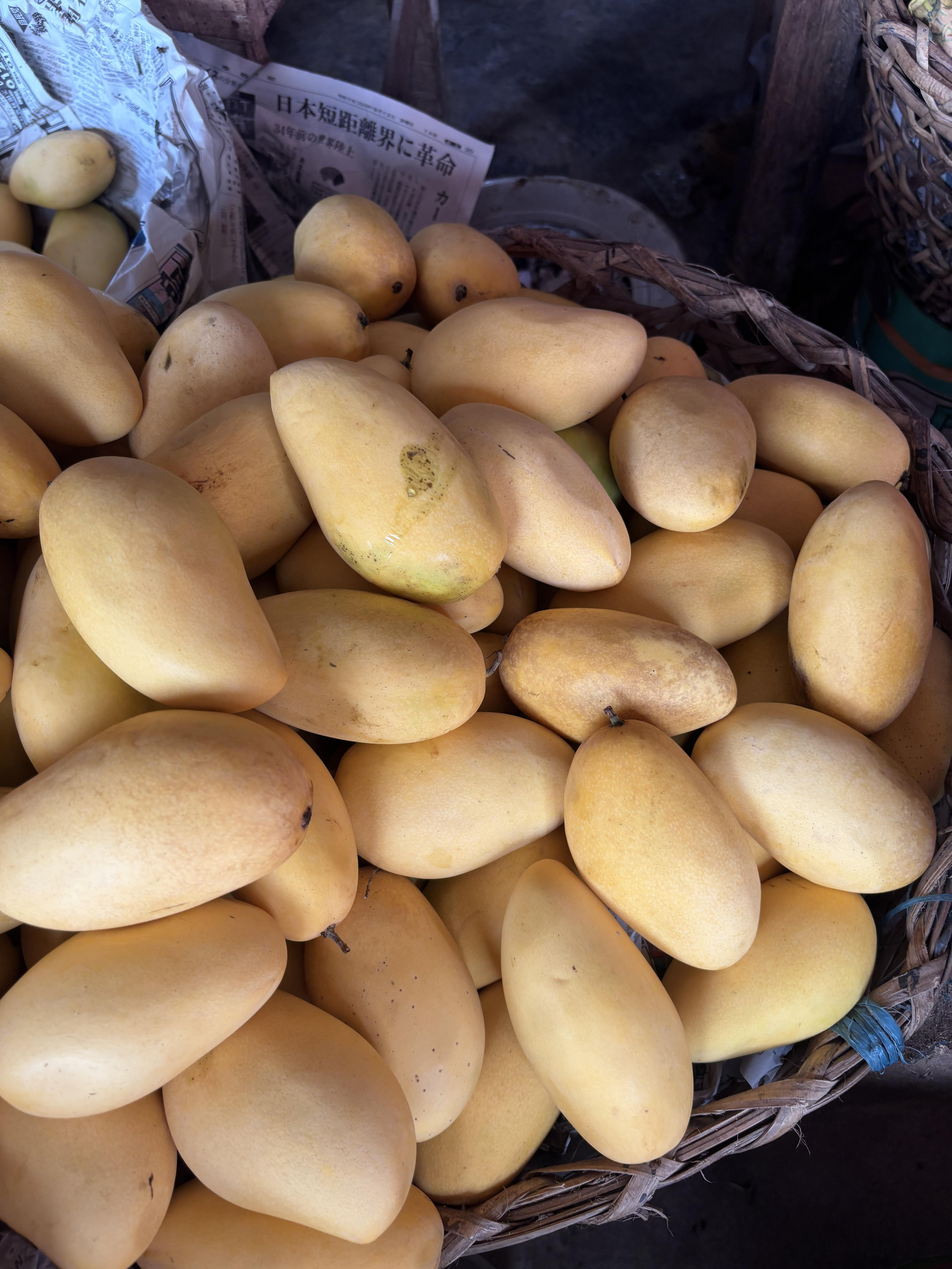mango: (39, 457, 287, 712), (501, 860, 693, 1165), (270, 359, 506, 603), (565, 719, 760, 970), (693, 702, 936, 893), (610, 375, 756, 533), (9, 130, 116, 210)
occluded: (0, 710, 313, 931), (163, 991, 416, 1243), (0, 898, 286, 1118), (305, 866, 485, 1141), (663, 873, 876, 1062), (336, 712, 573, 878), (788, 481, 933, 734), (441, 404, 630, 592), (257, 589, 486, 744), (11, 556, 164, 772), (498, 607, 737, 743), (414, 982, 559, 1203), (412, 296, 647, 431), (550, 520, 794, 649), (146, 392, 314, 579), (0, 1092, 177, 1269), (235, 711, 358, 941), (0, 252, 142, 445), (138, 1180, 442, 1269), (423, 826, 575, 989), (727, 374, 910, 501), (129, 301, 276, 458), (294, 195, 416, 321), (202, 277, 369, 368), (870, 627, 952, 803), (409, 223, 520, 324), (0, 404, 60, 539), (732, 468, 823, 557), (720, 609, 798, 706), (276, 523, 384, 593), (42, 203, 128, 290), (90, 288, 159, 378), (556, 423, 623, 505), (424, 576, 504, 633), (628, 336, 706, 394), (484, 563, 538, 634), (367, 320, 429, 367), (0, 182, 33, 247), (746, 833, 785, 882), (358, 354, 411, 390), (0, 910, 21, 933)
